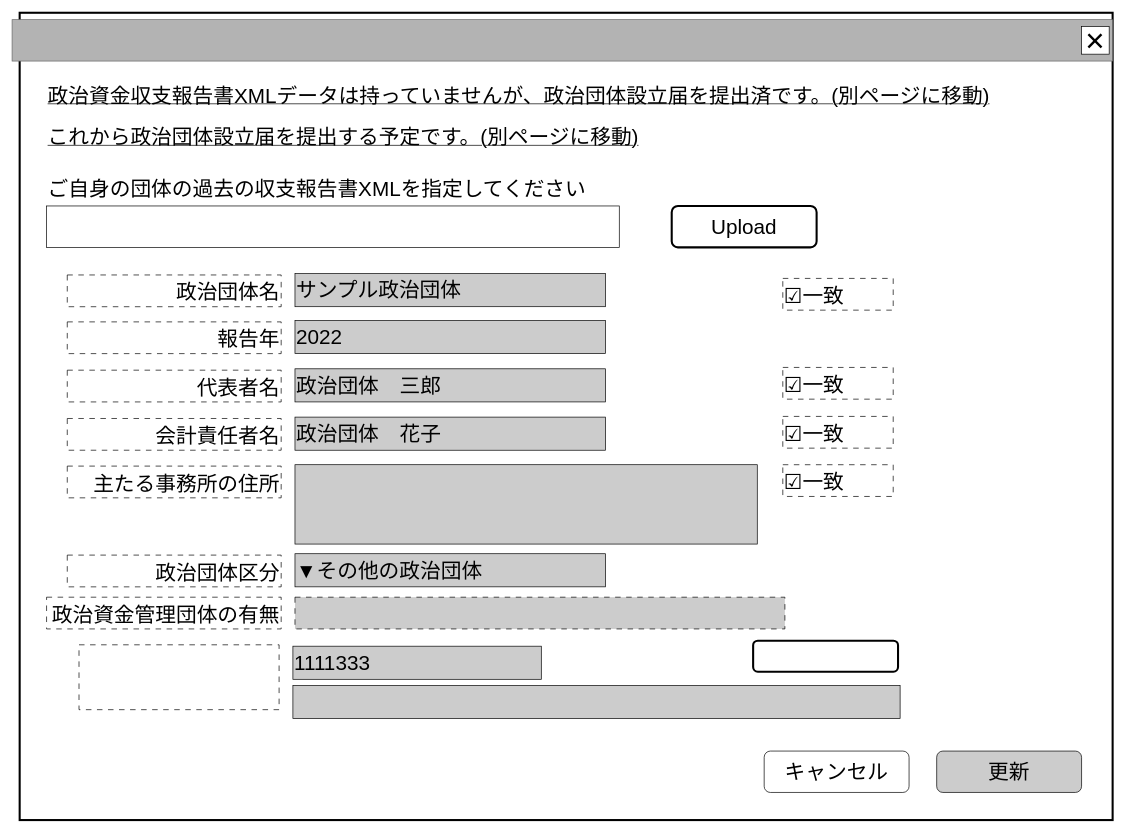
Some shapes in this 1125 by 833 pixel diagram are drawn without their labels. The shapes that lost their labels are listed below. From the top down, each one's centre as x and y in pixels, then its label:
[525,504]: 東京都千代田区霞が関xxxx番地zzzビルディングqqq号室
[539,613]: ☑有
[825,655]: 検索
[178,677]: 結びつける登録済の政治団体
[596,702]: ちゃらんぽらん政治団体
